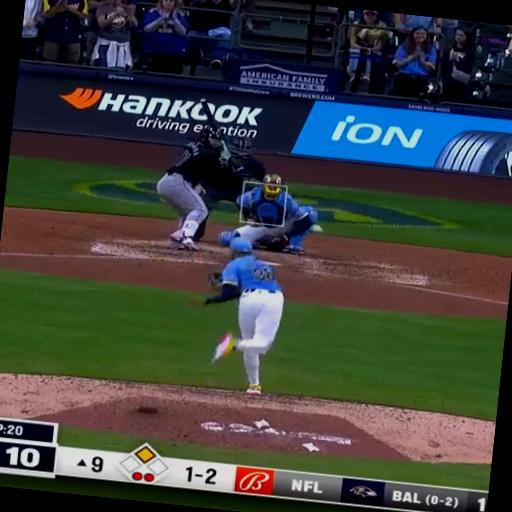bat: (200, 99, 219, 130)
